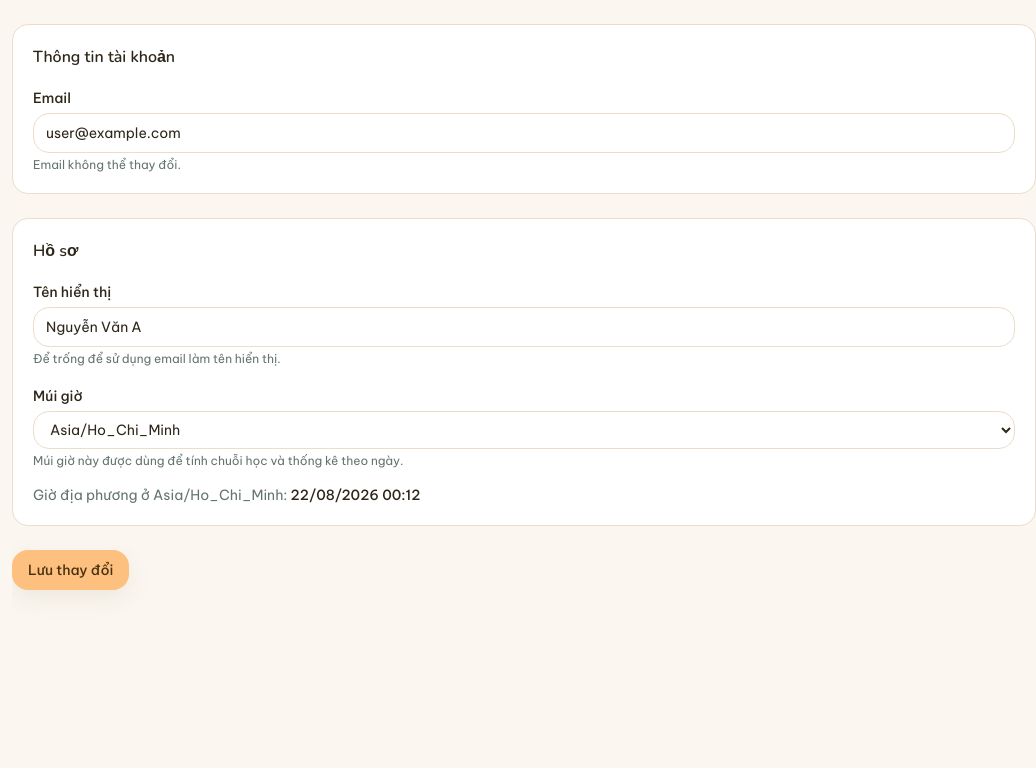
Test: ProfileSettingsForm › keeps a cooldown error structured and visible after a rejected timezone change
Select "Europe/Paris" in the dropdown labelled "Múi giờ": point(524, 430) [33, 411, 1015, 449]
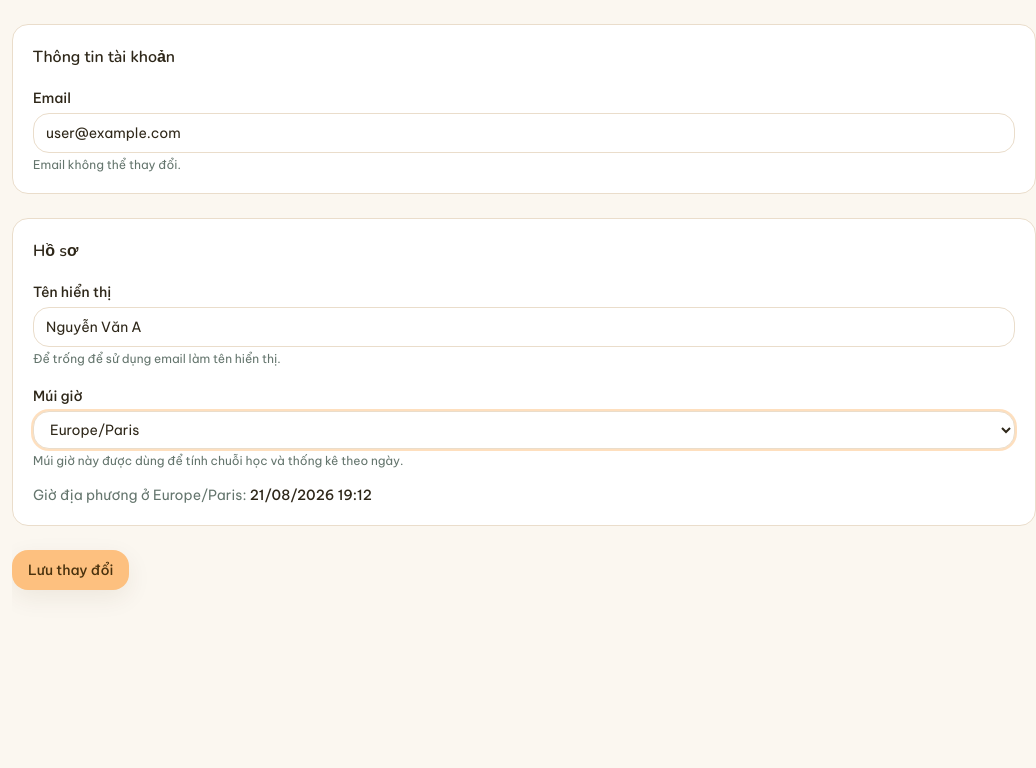
Click the button "Lưu thay đổi": point(71, 570) [12, 550, 129, 590]
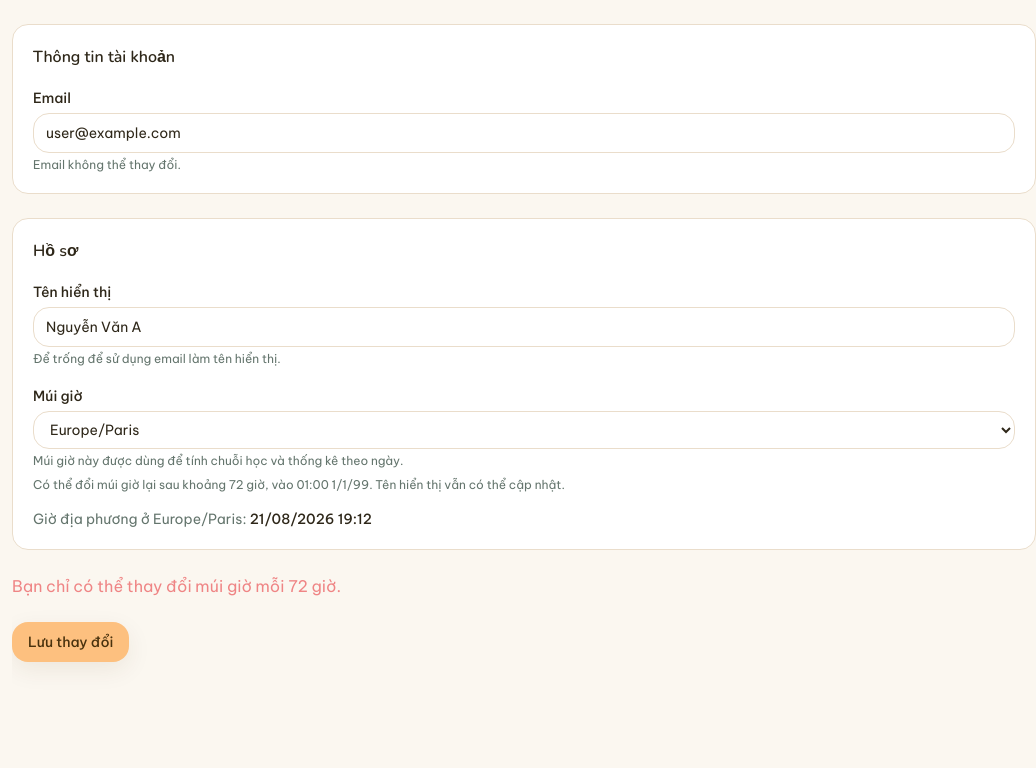
Result: the message reads "Bạn chỉ có thể thay đổi múi giờ mỗi 72 giờ." at [12, 576, 341, 596]
Result: the dropdown labelled "Múi giờ" is disabled at [33, 411, 1015, 449]
Result: the text "Có thể đổi múi giờ lại sau" is shown at [33, 477, 229, 492]
